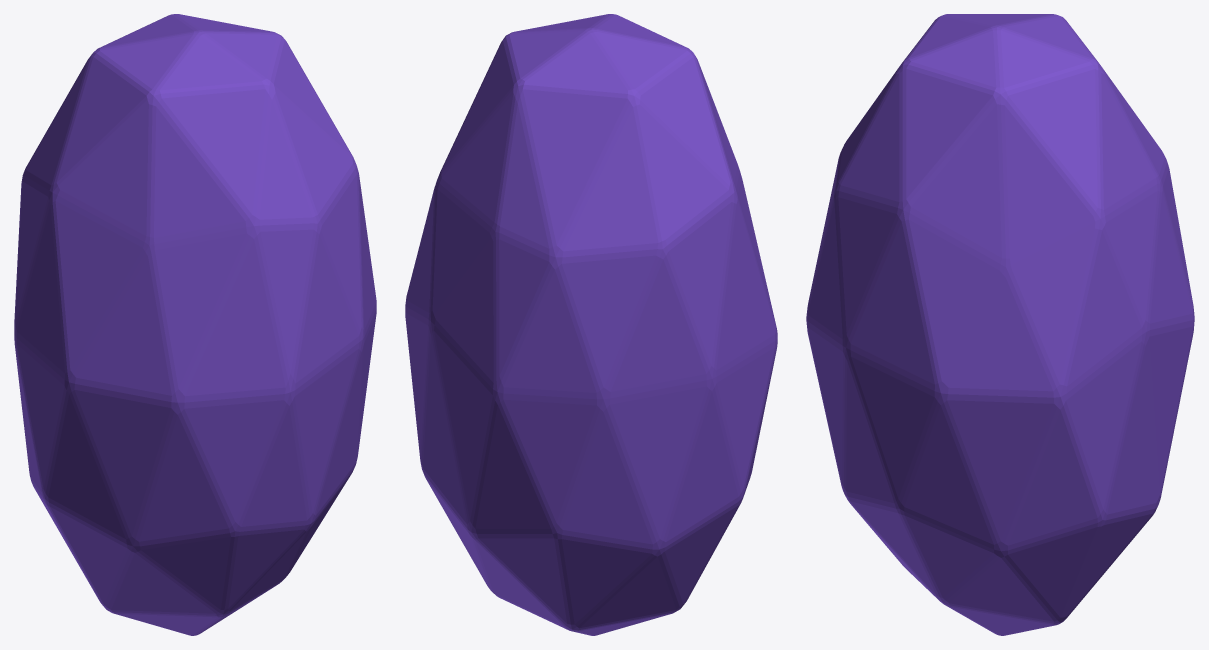
File: gardenCrystal.02.fbx
3 renders of one model, left to right at view 1: azimuth 30°, elevation 25°; view 2: azimuth 150°, elevation 25°; view 3: azimuth 270°, elevation 25°, orthographic.
Visible parts, largest first — view 1: Icosphere.001; view 2: Icosphere.001; view 3: Icosphere.001.
Boxes of the visible parts, left/top/right/bottom form: Icosphere.001: left=14, top=14, right=376, bottom=635; Icosphere.001: left=405, top=14, right=777, bottom=635; Icosphere.001: left=806, top=14, right=1194, bottom=635.
Size of the model in its own units: 187 by 343 by 198.
